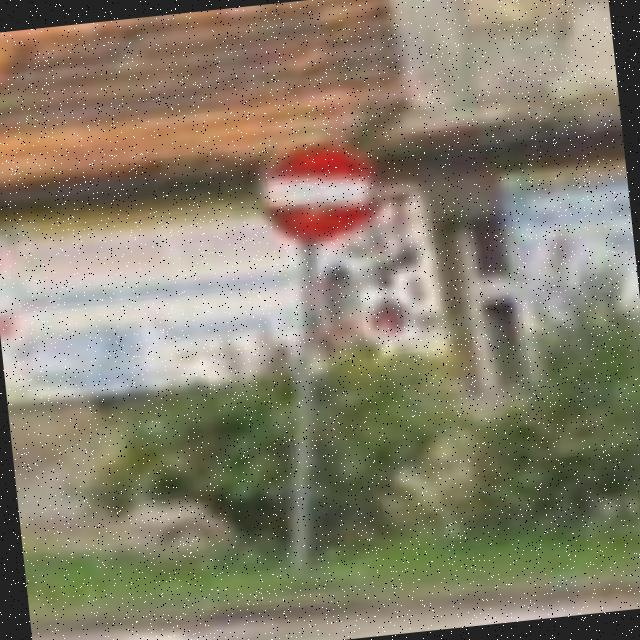Zakaz wjazdu: (251, 130, 383, 247)
